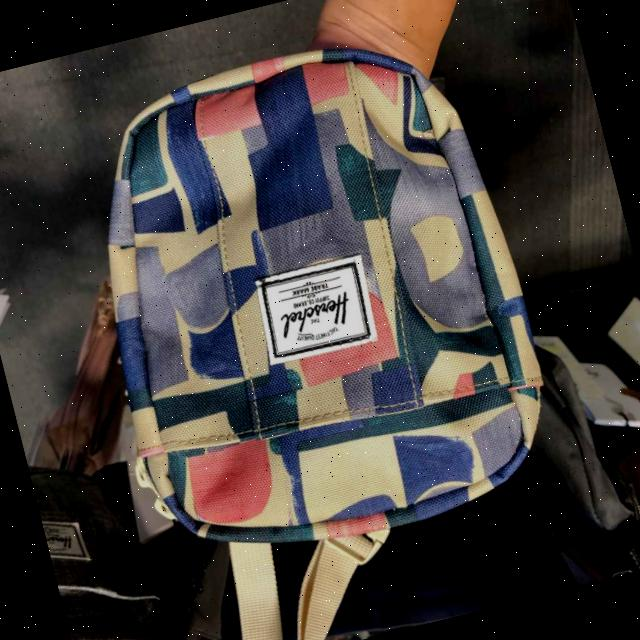handbag: (38, 1, 574, 588)
